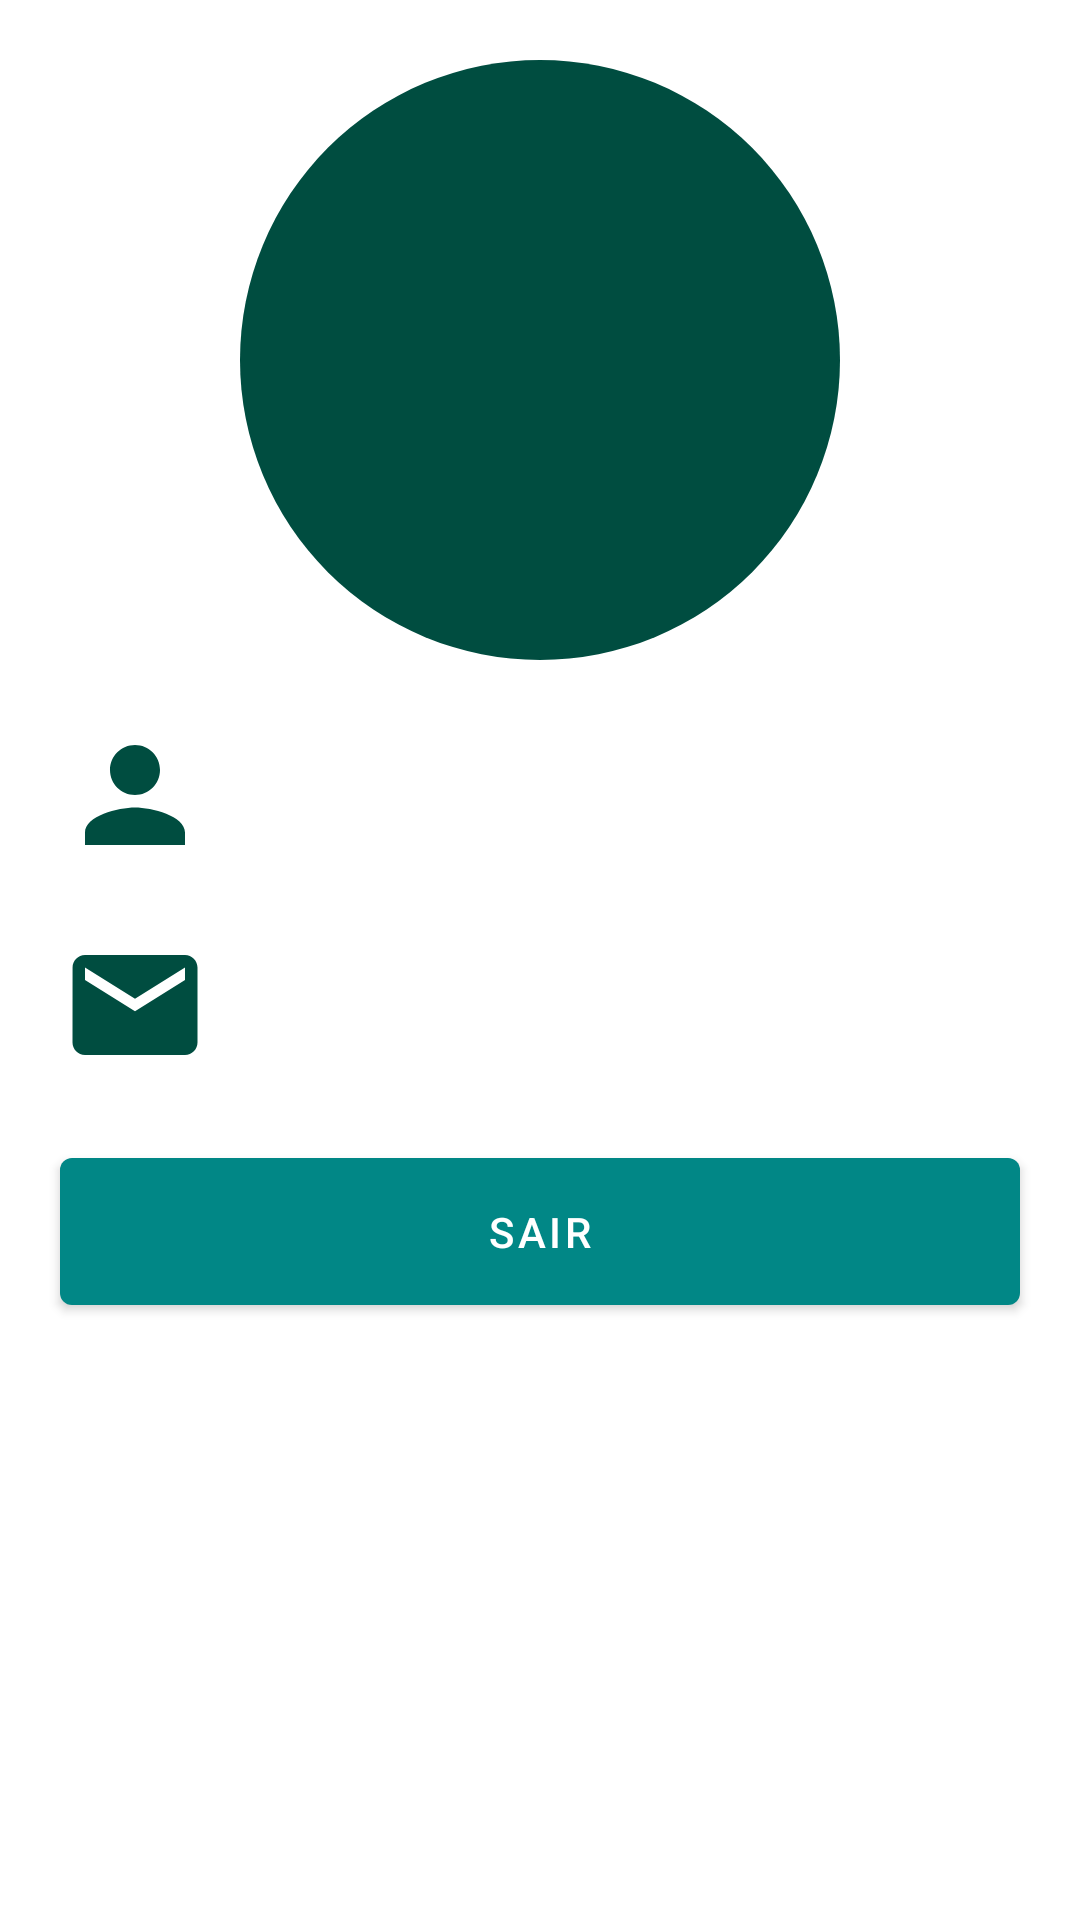

Named icons in this screenshot (1080px×1920px) and their centers, (x,y):
email usuario: (135,1005)
nome usuario: (135,795)
